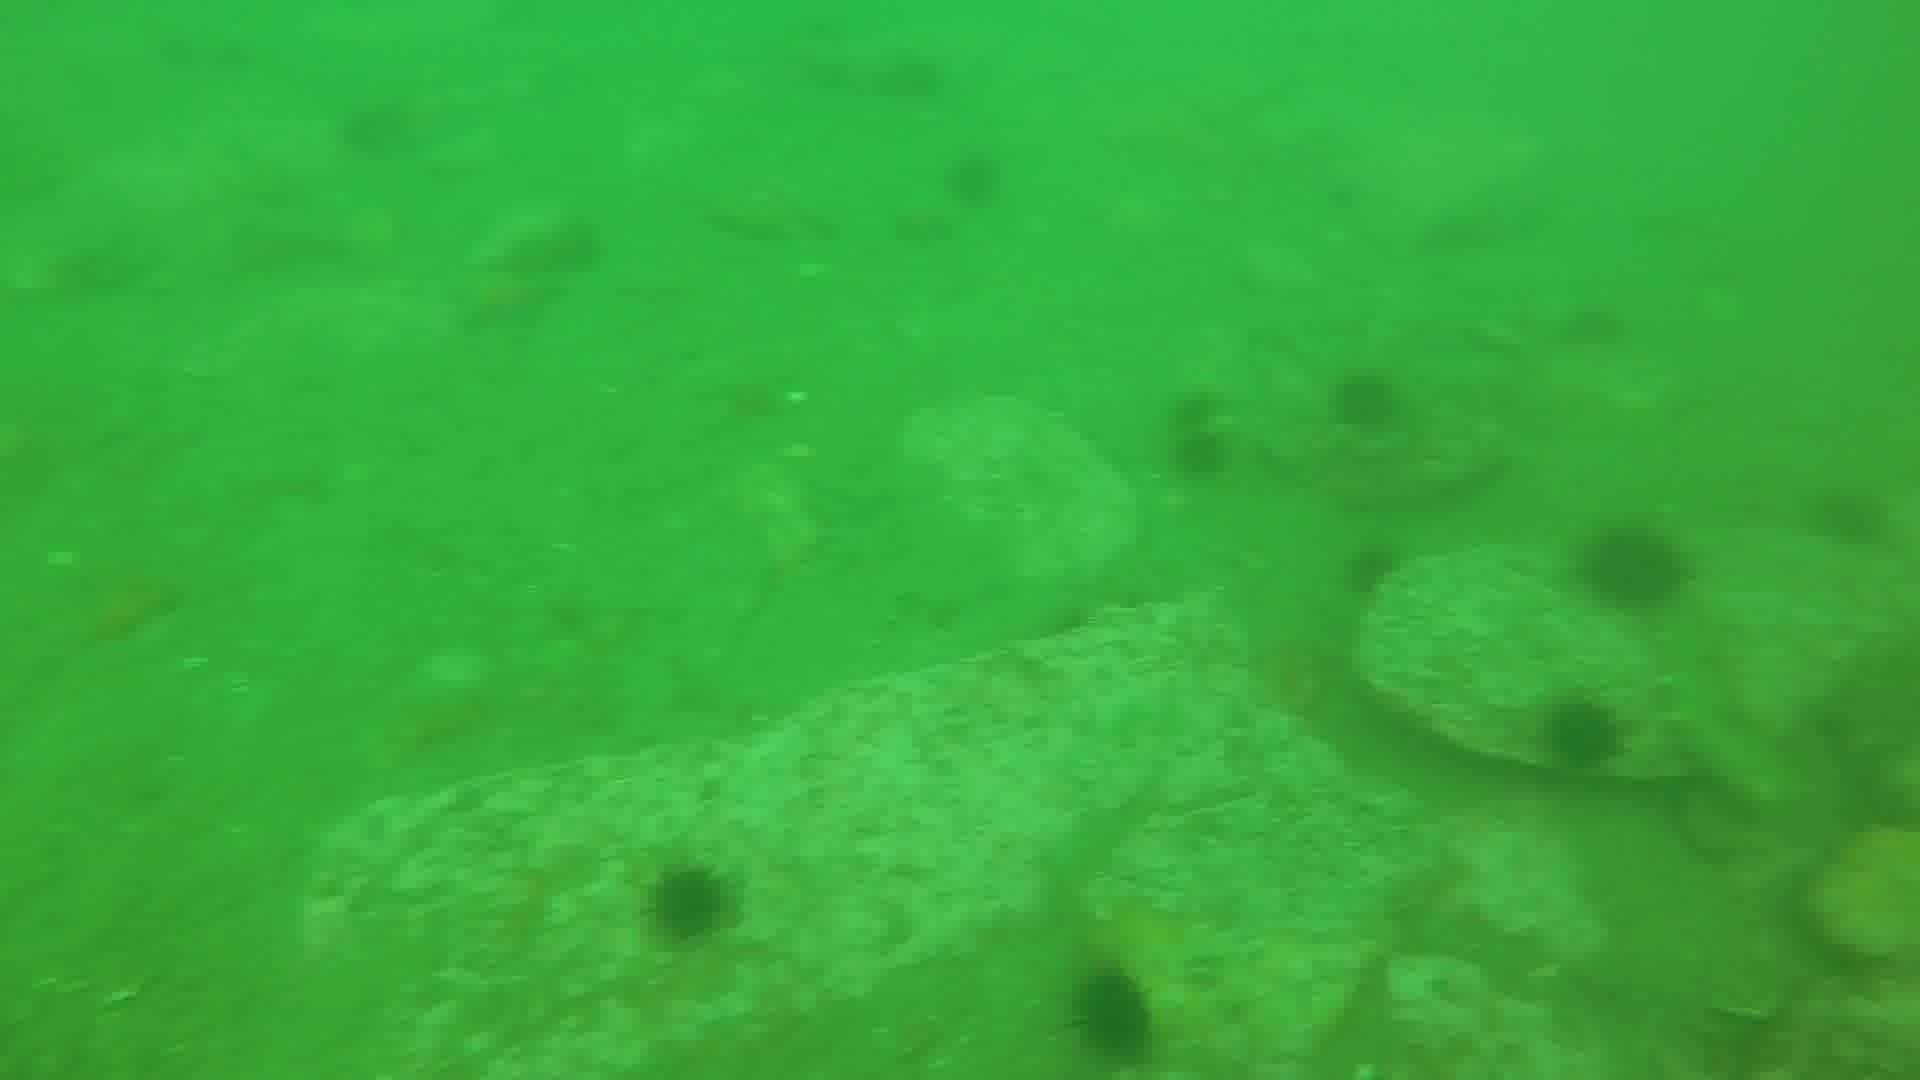echinus: (1573, 520, 1691, 616), (1065, 965, 1160, 1065), (644, 862, 737, 947), (1538, 694, 1629, 775), (1803, 481, 1894, 553), (1325, 367, 1404, 436), (1335, 538, 1404, 603), (940, 146, 1007, 212), (876, 49, 949, 108), (1164, 423, 1234, 485), (1164, 384, 1238, 438)
starfish: (444, 262, 566, 339)
